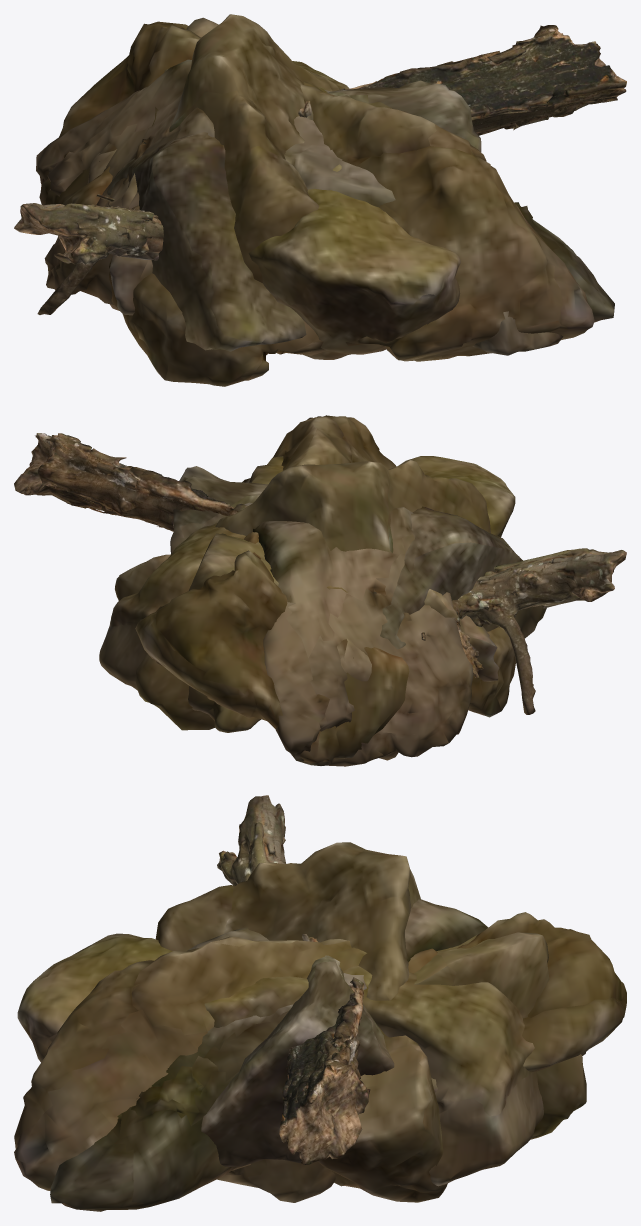
The model's file is forest_props_lite.glb.
3 renders of one model, top to bottom at view 1: azimuth 30°, elevation 25°; view 2: azimuth 150°, elevation 25°; view 3: azimuth 270°, elevation 25°, orthographic. The views are drawn at different scales.
Visible parts, largest first — view 1: rock_moss_set_01_rock01, rock_moss_set_01_rock03, rock_moss_set_01_rock05, dead_tree_trunk_02, rock_moss_set_01_rock04, rock_moss_set_01_rock02, rock_moss_set_01_rock06; view 2: rock_moss_set_01_rock02, rock_moss_set_01_rock01, dead_tree_trunk_02, rock_moss_set_01_rock04, rock_moss_set_01_rock03, rock_moss_set_01_rock05, rock_moss_set_01_rock06; view 3: rock_moss_set_01_rock01, rock_moss_set_01_rock04, rock_moss_set_01_rock05, rock_moss_set_01_rock02, dead_tree_trunk_02, rock_moss_set_01_rock03, rock_moss_set_01_rock06.
Part boxes in pixels (x1,y1,x2,y2): rock_moss_set_01_rock01: [39, 21, 594, 386]; rock_moss_set_01_rock03: [107, 80, 481, 351]; rock_moss_set_01_rock05: [87, 61, 460, 359]; dead_tree_trunk_02: [14, 25, 626, 314]; rock_moss_set_01_rock04: [110, 14, 339, 310]; rock_moss_set_01_rock02: [36, 59, 614, 355]; rock_moss_set_01_rock06: [109, 17, 411, 315]; rock_moss_set_01_rock02: [242, 478, 473, 766]; rock_moss_set_01_rock01: [135, 415, 515, 763]; dead_tree_trunk_02: [14, 433, 626, 714]; rock_moss_set_01_rock04: [115, 460, 490, 760]; rock_moss_set_01_rock03: [170, 466, 546, 649]; rock_moss_set_01_rock05: [99, 456, 515, 732]; rock_moss_set_01_rock06: [135, 456, 499, 730]; rock_moss_set_01_rock01: [14, 912, 626, 1202]; rock_moss_set_01_rock04: [155, 842, 447, 1202]; rock_moss_set_01_rock05: [17, 933, 543, 1186]; rock_moss_set_01_rock02: [50, 899, 488, 1211]; dead_tree_trunk_02: [217, 795, 370, 1164]; rock_moss_set_01_rock03: [201, 955, 437, 1166]; rock_moss_set_01_rock06: [204, 932, 586, 1139].
Size of the model in its own units: 4.05 by 1.77 by 3.36.
Materials: 6 (6 with a texture image).
